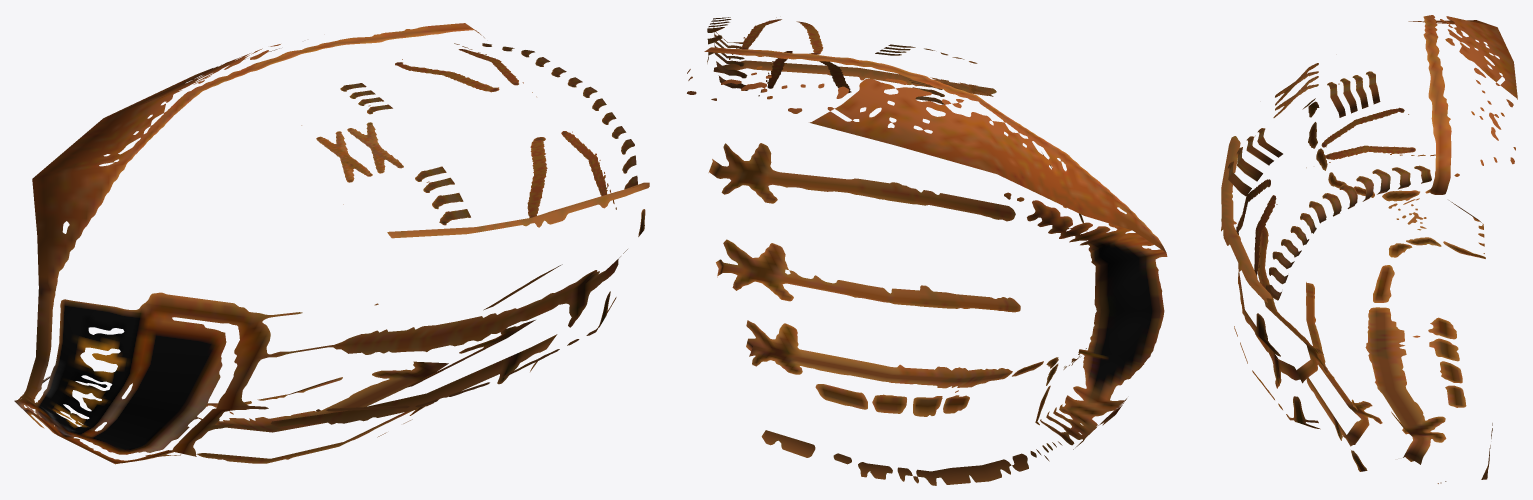
The model's file is bbl_Glove__bbl_Glove_r.glb.
3 renders of one model, left to right at view 1: azimuth 30°, elevation 25°; view 2: azimuth 150°, elevation 25°; view 3: azimuth 270°, elevation 25°, orthographic. The views are drawn at different scales.
Parts seen in each view (by area): view 1: polygon0; view 2: polygon0; view 3: polygon0.
Boxes of the visible parts, box(x1,y1,x2,y2) form: polygon0: box(14, 23, 649, 464); polygon0: box(687, 17, 1167, 485); polygon0: box(1221, 15, 1517, 483).
Bounding box in the file's own units: 4.34 × 3.04 × 2.18.
1 material, 1 textured.
